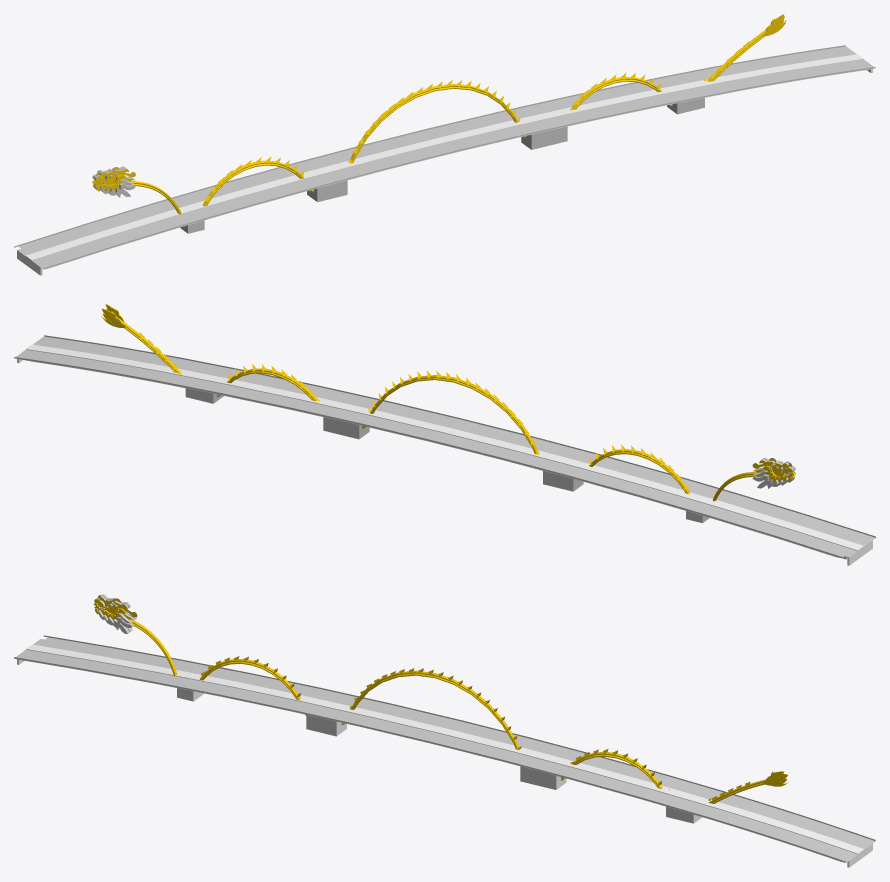
3 views of the same model, one above another, from view 1: azimuth 30°, elevation 25°; view 2: azimuth 150°, elevation 25°; view 3: azimuth 330°, elevation 25° (orthographic).
Visible parts, largest first — view 1: SketchUp.001_ID985, SketchUp.010_ID1077, SketchUp.011_ID1087, SketchUp.012_ID1102, group_3_ID42, SketchUp_ID977, group_5_ID76, instance_50_ID156, SketchUp.006_ID1041, SketchUp.004_ID1023, group_1_ID4; view 2: SketchUp.001_ID985, SketchUp.010_ID1077, SketchUp.012_ID1102, SketchUp_ID977, SketchUp.011_ID1087, group_4_ID59, group_2_ID25, instance_51_ID550, SketchUp.006_ID1041; view 3: SketchUp.001_ID985, SketchUp.010_ID1077, SketchUp.011_ID1087, SketchUp.012_ID1102, group_3_ID42, SketchUp_ID977, group_5_ID76, instance_50_ID156, SketchUp.006_ID1041, group_2_ID25.
Boxes of the visible parts, x1,y1,x2,y2 form: SketchUp.001_ID985: (17, 46, 875, 269); SketchUp.010_ID1077: (26, 54, 863, 260); SketchUp.011_ID1087: (43, 67, 875, 269); SketchUp.012_ID1102: (14, 45, 845, 247); group_3_ID42: (125, 36, 764, 214); SketchUp_ID977: (17, 68, 874, 275); group_5_ID76: (130, 31, 765, 214); instance_50_ID156: (93, 167, 135, 197); SketchUp.006_ID1041: (521, 126, 567, 149); SketchUp.004_ID1023: (307, 180, 347, 202); group_1_ID4: (125, 31, 765, 214); SketchUp.001_ID985: (14, 336, 875, 557); SketchUp.010_ID1077: (25, 344, 863, 550); SketchUp.012_ID1102: (14, 357, 846, 559); SketchUp_ID977: (17, 358, 872, 565); SketchUp.011_ID1087: (44, 335, 875, 537); group_4_ID59: (114, 321, 762, 501); group_2_ID25: (111, 316, 758, 500); instance_51_ID550: (752, 458, 795, 488); SketchUp.006_ID1041: (323, 417, 369, 439); SketchUp.001_ID985: (16, 637, 875, 862); SketchUp.010_ID1077: (26, 644, 863, 854); SketchUp.011_ID1087: (14, 657, 845, 862); SketchUp.012_ID1102: (43, 635, 875, 840); group_3_ID42: (129, 622, 764, 803); SketchUp_ID977: (15, 658, 872, 867); group_5_ID76: (130, 620, 765, 803); instance_50_ID156: (93, 595, 136, 633); SketchUp.006_ID1041: (520, 766, 556, 789); group_2_ID25: (131, 619, 765, 801).
Size of the model in its own units: 841 by 81.92 by 52.
